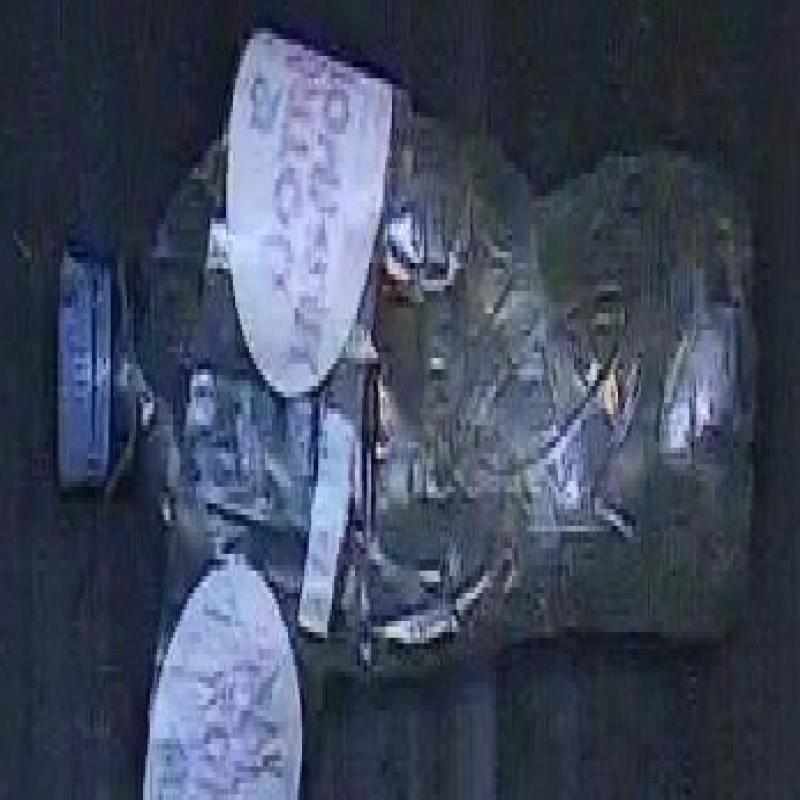botella: (61, 112, 750, 670)
